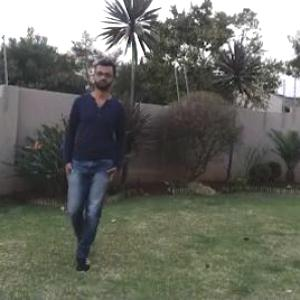follow: (51, 45, 131, 279)
